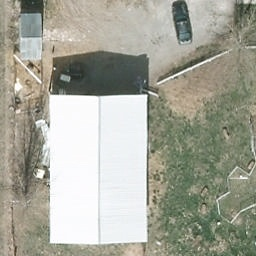car: (171, 1, 194, 44)
